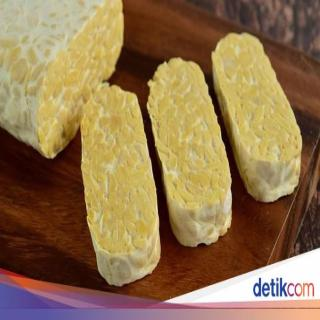Tempe: (1, 1, 125, 160), (148, 56, 234, 249), (81, 84, 162, 288), (212, 31, 303, 204)
